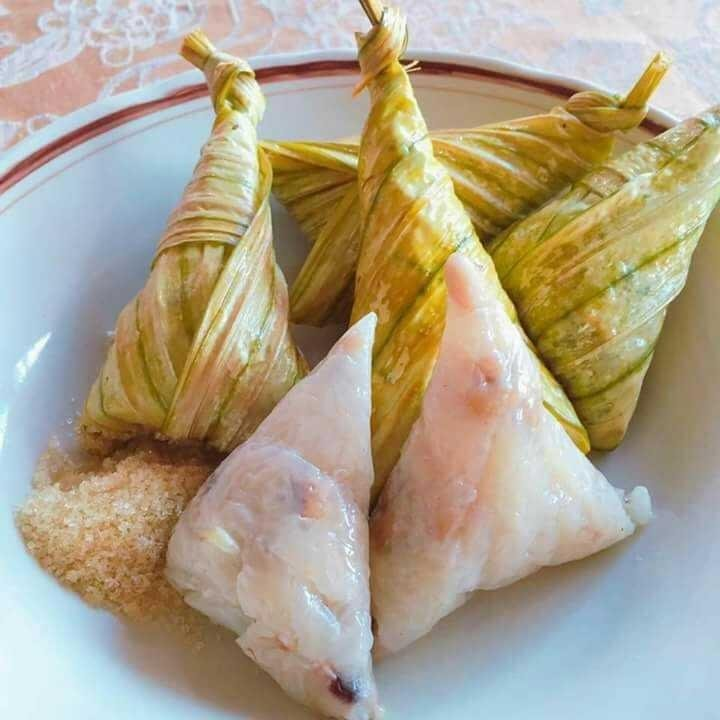kanomtom: (288, 7, 598, 531), (103, 38, 319, 465)
